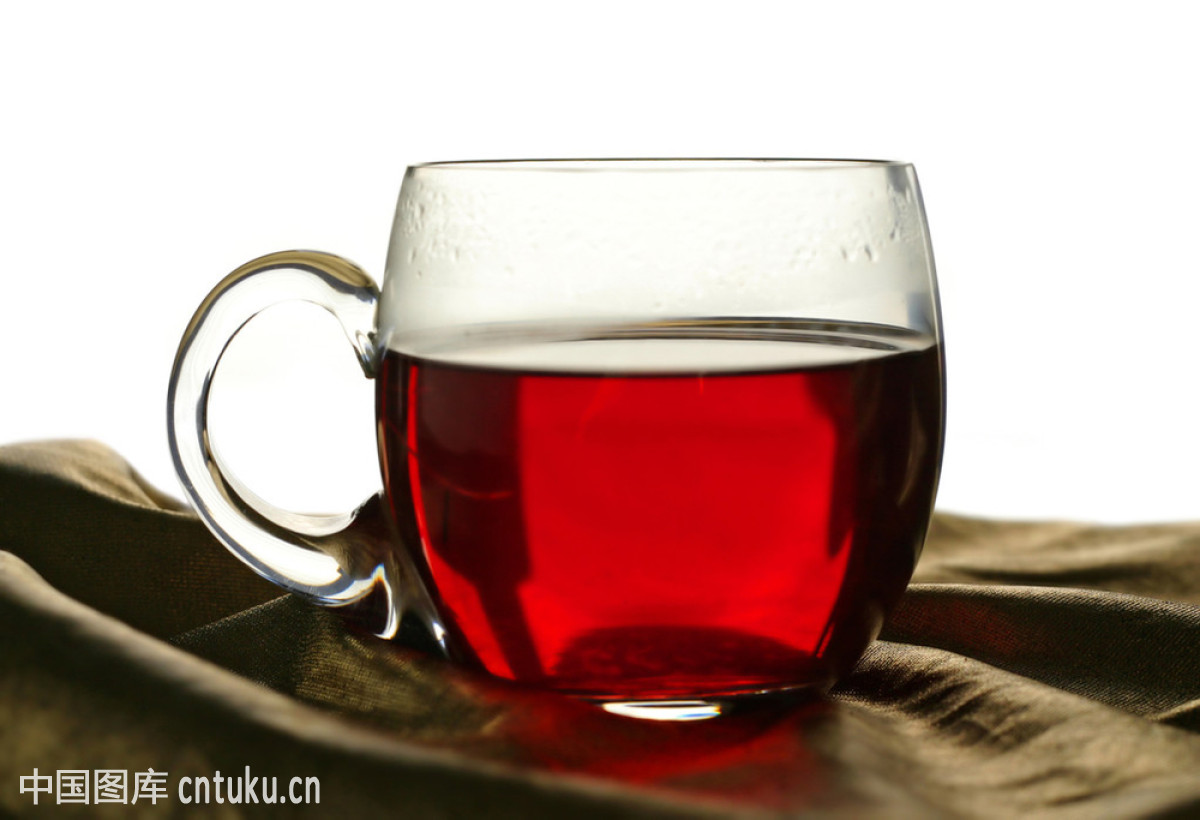cup: (163, 149, 951, 709)
